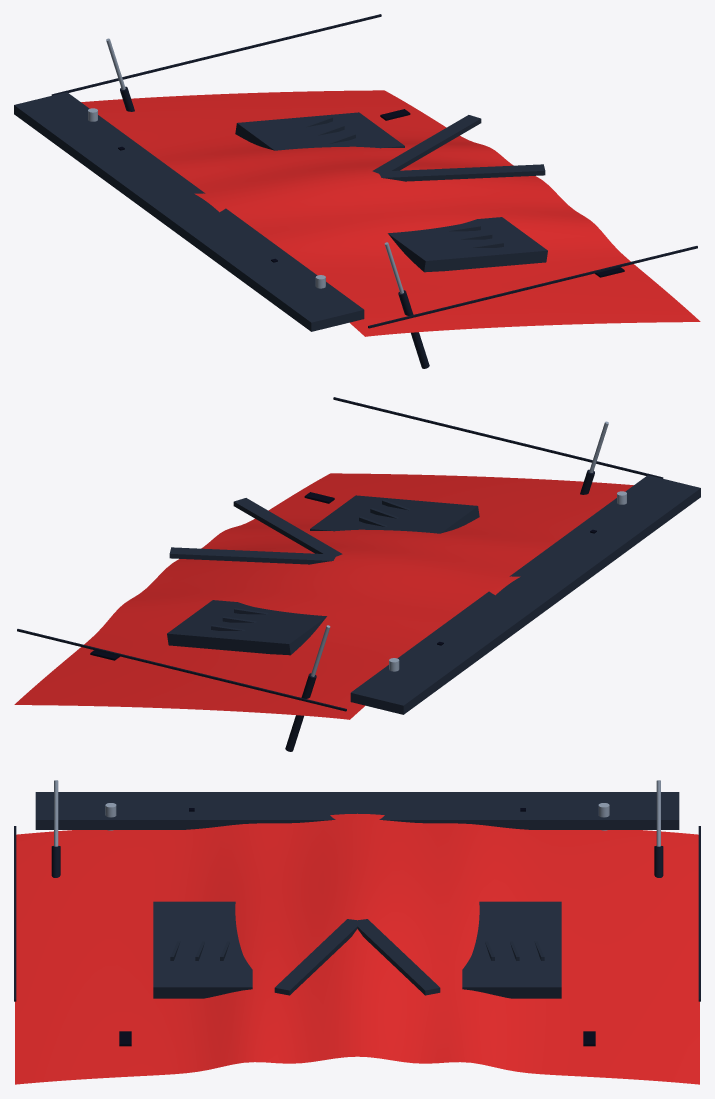
Rendered from ford_escort_rs_cosworth_gt3_hood_closed.glb.
3 renders of one model, top to bottom at view 1: azimuth 30°, elevation 25°; view 2: azimuth 150°, elevation 25°; view 3: azimuth 270°, elevation 25°, orthographic. The views are drawn at different scales.
Visible parts, largest first — view 1: Block04_ProductionSculptedHood; view 2: Block04_ProductionSculptedHood; view 3: Block04_ProductionSculptedHood.
Boxes of the visible parts, x1,y1,x2,y2 form: Block04_ProductionSculptedHood: (14, 14, 700, 368); Block04_ProductionSculptedHood: (14, 397, 700, 751); Block04_ProductionSculptedHood: (14, 780, 700, 1084).
Size of the model in its own units: 0.86 by 0.2968 by 1.24.
